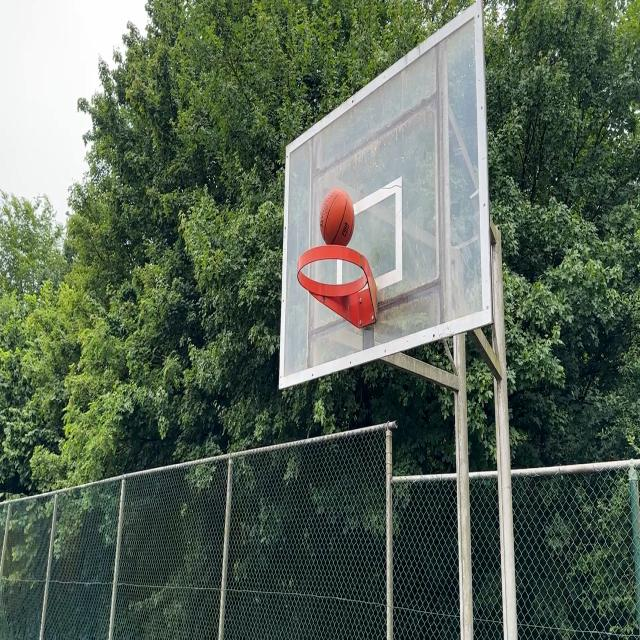rebound_hit: (320, 187, 356, 256)
